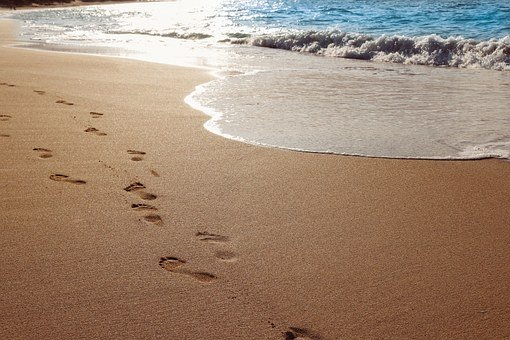beach: (3, 1, 502, 333)
